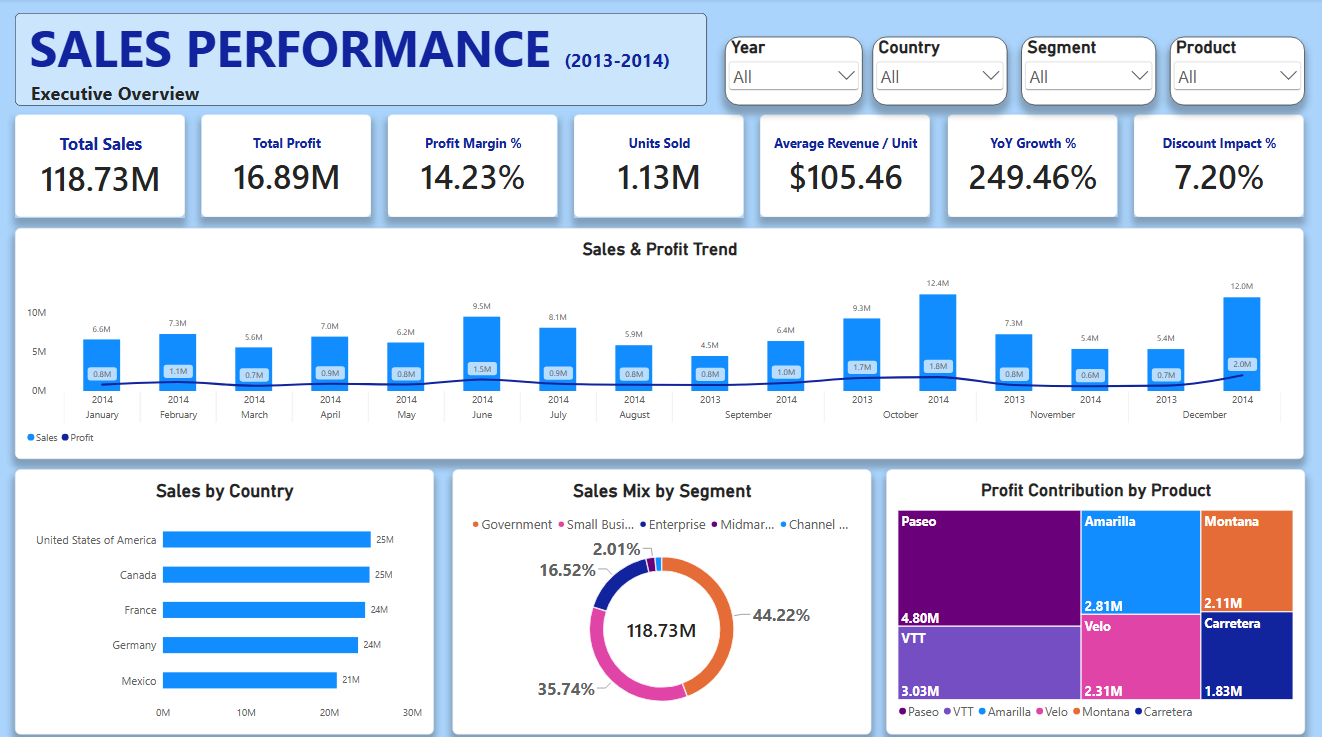

The dashboard page shown, as its layout file describes it:
{"tool":"powerbi","page":{"name":"Executive Overview","canvas":[1920,1080],"ordinal":0},"visuals":[{"type":"textbox","box":[21.6,21.6,1002,134.2],"z":0},{"type":"cardVisual","fields":{"Data":["Sum(Cleaned_Data.Sales)"]},"box":[21.7,168.3,246,149.5],"z":1000},{"type":"cardVisual","fields":{"Data":["Sum(Cleaned_Data.Profit)"]},"box":[291,168,246,149],"z":2000},{"type":"cardVisual","fields":{"Data":["Cleaned_Data.Profit Margin %"]},"box":[561,168,246,149],"z":3000},{"type":"cardVisual","fields":{"Data":["Sum(Cleaned_Data.Units Sold)"]},"box":[831,168,246,149.5],"z":4000},{"type":"cardVisual","fields":{"Data":["Cleaned_Data.Average Revenue / Unit"]},"box":[1101,168,246,149],"z":5000},{"type":"cardVisual","fields":{"Data":["Cleaned_Data.Discount Impact %"]},"box":[1641,168,246,149],"z":6000},{"type":"cardVisual","fields":{"Data":["Cleaned_Data.YoY Growth %"]},"box":[1371,168,246,149],"z":7000},{"type":"lineClusteredColumnComboChart","title":"Sales & Profit Trend","fields":{"Category":["Cleaned_Data.Month Name","Cleaned_Data.Year"],"Y":["Sum(Cleaned_Data.Sales)"],"Y2":["Sum(Cleaned_Data.Profit)"]},"box":[21.7,333,1865.8,334.8],"z":8000},{"type":"treemap","title":"Profit Contribution by Product","fields":{"Group":["Cleaned_Data.Product"],"Values":["Sum(Cleaned_Data.Profit)"]},"box":[1283,682.2,606.2,383.6],"z":9000},{"type":"clusteredBarChart","title":"Sales by Country","fields":{"Category":["Cleaned_Data.Country"],"Y":["Sum(Cleaned_Data.Sales)"]},"box":[21.7,682.2,606,383.6],"z":10000},{"type":"donutChart","title":"Sales Mix by Segment","fields":{"Category":["Cleaned_Data.Segment"],"Y":["Sum(Cleaned_Data.Sales)"]},"box":[655.1,682.2,606,383.6],"z":11000},{"type":"slicer","fields":{"Values":["Cleaned_Data.Year"]},"box":[1049.6,56.3,199.1,99.6],"z":12000},{"type":"slicer","fields":{"Values":["Cleaned_Data.Country"]},"box":[1264,56.3,195,99],"z":13000},{"type":"slicer","fields":{"Values":["Cleaned_Data.Segment"]},"box":[1479,56.3,195,99],"z":14000},{"type":"slicer","fields":{"Values":["Cleaned_Data.Product"]},"box":[1694,56.3,195,99.6],"z":15000}]}

Visuals, with their boxes in screenshot pixels (x1, y1, x2, y2), scaled from the page's 1920x1080 canvas onto the 1322x737 screenshot:
textbox: detection(15, 15, 705, 106)
cardVisual - Sum(Cleaned_Data.Sales): detection(15, 115, 184, 217)
cardVisual - Sum(Cleaned_Data.Profit): detection(200, 115, 370, 216)
cardVisual - Cleaned_Data.Profit Margin %: detection(386, 115, 556, 216)
cardVisual - Sum(Cleaned_Data.Units Sold): detection(572, 115, 742, 217)
cardVisual - Cleaned_Data.Average Revenue / Unit: detection(758, 115, 927, 216)
cardVisual - Cleaned_Data.Discount Impact %: detection(1130, 115, 1299, 216)
cardVisual - Cleaned_Data.YoY Growth %: detection(944, 115, 1113, 216)
"Sales & Profit Trend" lineClusteredColumnComboChart: detection(15, 227, 1300, 456)
"Profit Contribution by Product" treemap: detection(883, 466, 1301, 727)
"Sales by Country" clusteredBarChart: detection(15, 466, 432, 727)
"Sales Mix by Segment" donutChart: detection(451, 466, 868, 727)
slicer - Cleaned_Data.Year: detection(723, 38, 860, 106)
slicer - Cleaned_Data.Country: detection(870, 38, 1005, 106)
slicer - Cleaned_Data.Segment: detection(1018, 38, 1153, 106)
slicer - Cleaned_Data.Product: detection(1166, 38, 1301, 106)
